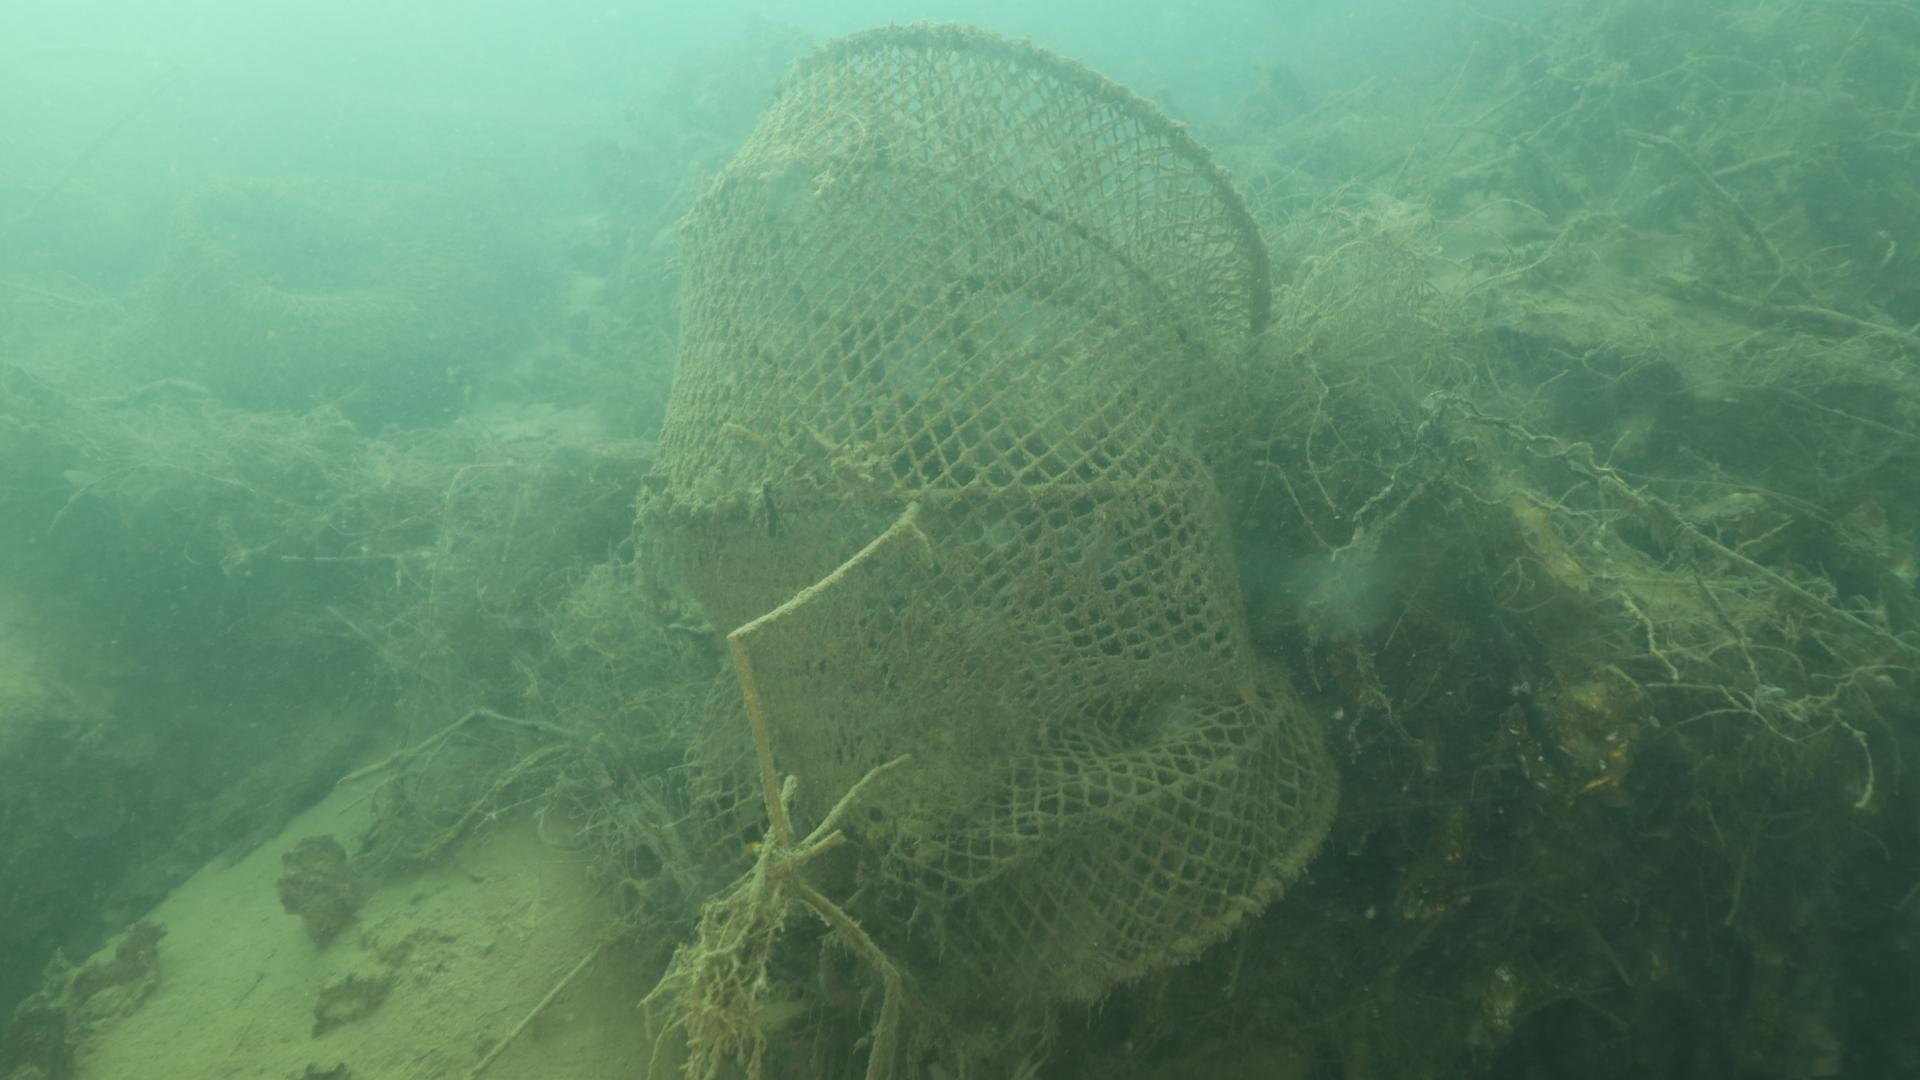spring fish trap: (632, 21, 1342, 1006)
